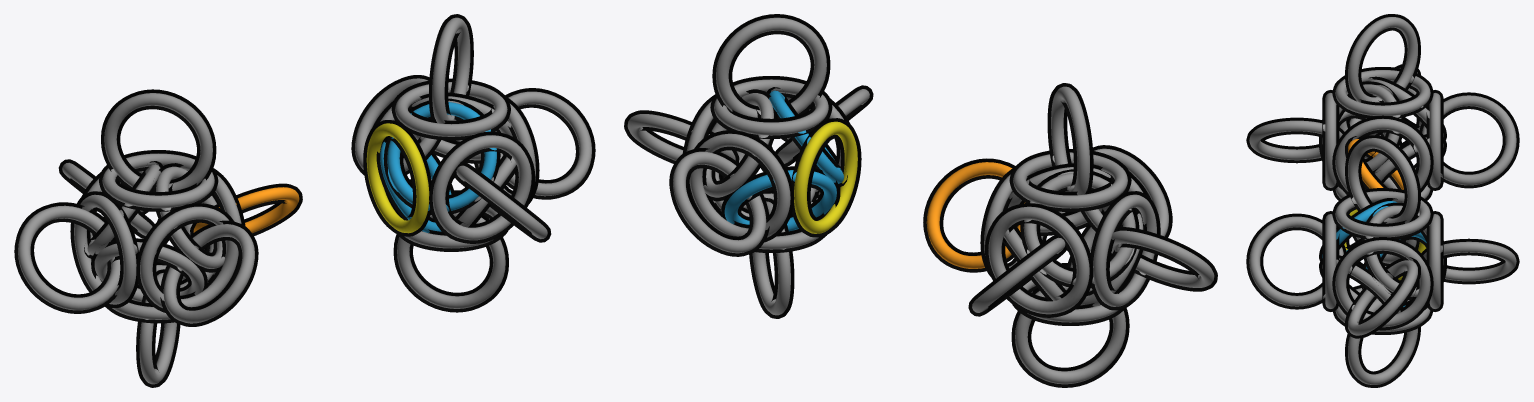
The model's file is tetraorb_line_step_06.glb.
3 renders of one model, left to right at view 1: azimuth 30°, elevation 25°; view 2: azimuth 150°, elevation 25°; view 3: azimuth 270°, elevation 25°, orthographic. The views are drawn at different scales.
Parts seen in each view (by area): view 1: Torus.010, Torus.517, Torus.520, Torus.515, Torus.509, Torus.007, Torus.514, Torus.006, Torus.002, Torus.011, Torus.511, Torus.005 (+16 smaller); view 2: Torus.510, Torus.005, Torus.007, Torus.003, Torus.009, Torus.514, Torus.518, Torus.519, Torus.511, Torus.011, Torus.520, Torus.517 (+16 smaller); view 3: Torus.008, Torus.516, Torus.004, Torus.005, Torus.517, Torus.002, Torus.513, Torus.011, Torus.511, Torus.515, Torus.003, Torus.006 (+14 smaller).
Part boxes in pixels (x1,y1,x2,y2): Torus.010: (429, 131, 535, 243); Torus.517: (101, 89, 216, 190); Torus.520: (14, 202, 120, 313); Torus.515: (160, 220, 258, 326); Torus.509: (136, 203, 238, 312); Torus.007: (363, 120, 432, 236); Torus.514: (70, 191, 139, 307); Torus.006: (393, 212, 508, 312); Torus.002: (495, 88, 595, 199); Torus.011: (391, 78, 510, 140); Torus.511: (99, 150, 218, 211); Torus.005: (429, 14, 473, 123); Torus.510: (985, 203, 1093, 317); Torus.005: (712, 14, 830, 117); Torus.007: (790, 118, 861, 237); Torus.003: (669, 148, 769, 256); Torus.009: (689, 130, 794, 242); Torus.514: (1089, 191, 1160, 310); Torus.518: (1011, 285, 1129, 387); Torus.519: (923, 158, 1025, 272); Torus.511: (1009, 149, 1131, 211); Torus.011: (710, 76, 832, 138); Torus.520: (1111, 227, 1217, 291); Torus.517: (1047, 83, 1093, 194); Torus.008: (1332, 237, 1433, 330); Torus.516: (1419, 92, 1519, 188); Torus.004: (1246, 213, 1346, 309); Torus.005: (1345, 135, 1420, 223); Torus.517: (1345, 14, 1420, 102); Torus.002: (1345, 257, 1420, 338); Torus.513: (1332, 115, 1433, 194); Torus.011: (1332, 188, 1433, 240); Torus.511: (1332, 67, 1433, 118); Torus.515: (1246, 117, 1344, 163); Torus.003: (1421, 238, 1519, 284); Torus.006: (1345, 298, 1420, 387).
Bounding box in the file's own units: 18.56 × 9.06 × 9.06.
